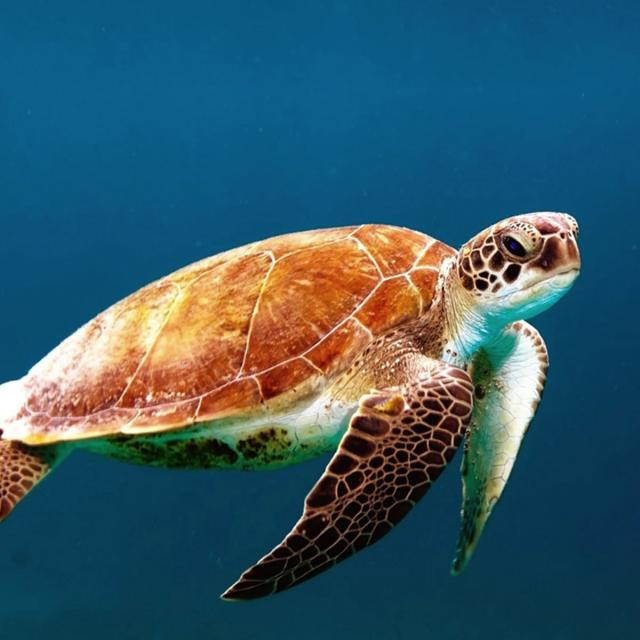turtle: (0, 212, 580, 600)
